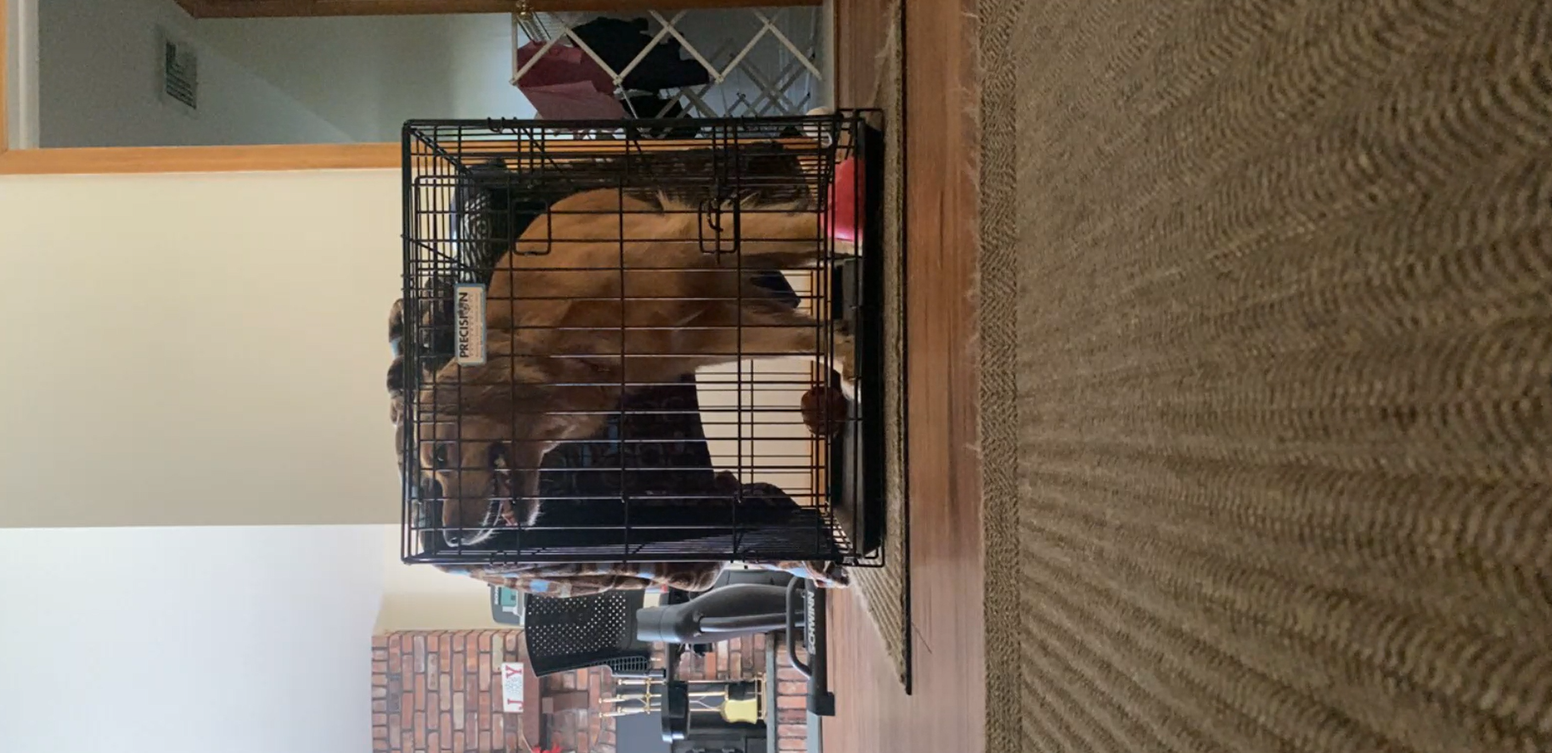penny: (401, 170, 872, 558)
